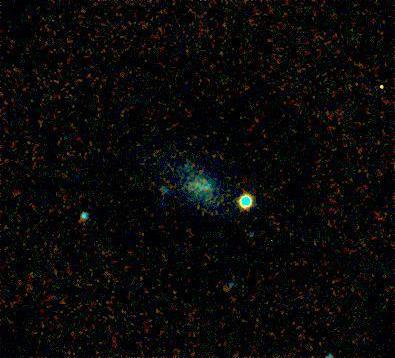star: (365, 73, 395, 103)
